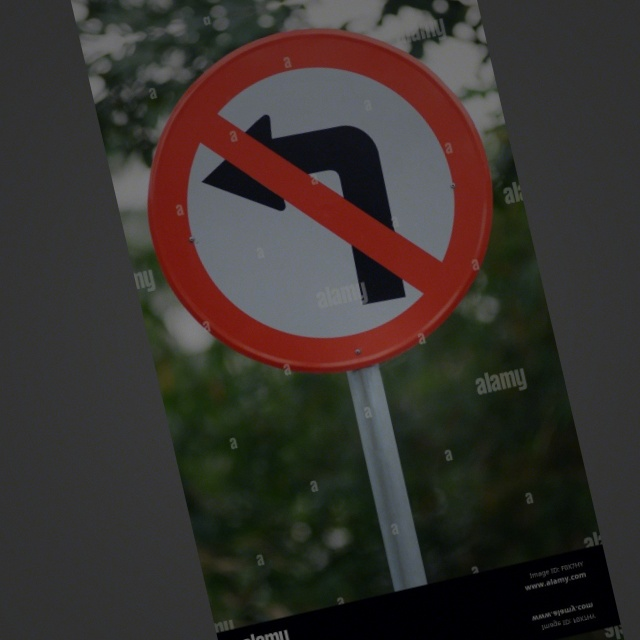Left_Turn_Prohibited: (112, 1, 527, 404)
